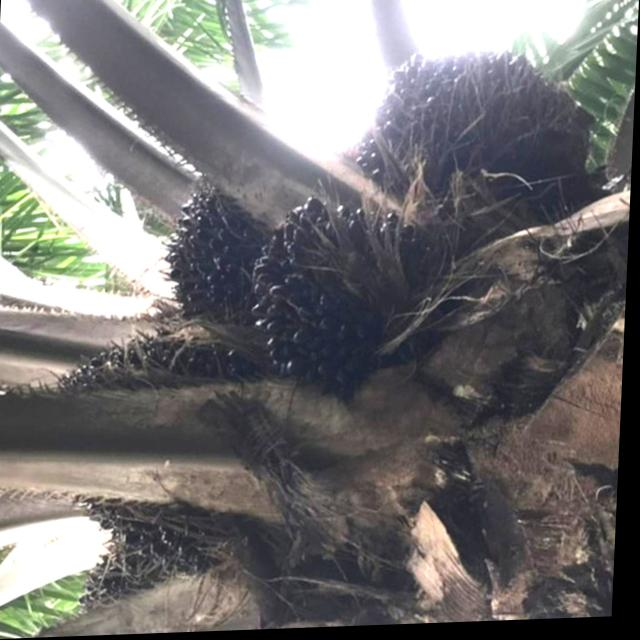almost: (353, 43, 596, 203), (40, 333, 241, 526), (239, 207, 424, 407), (162, 158, 260, 332), (68, 524, 218, 626)
